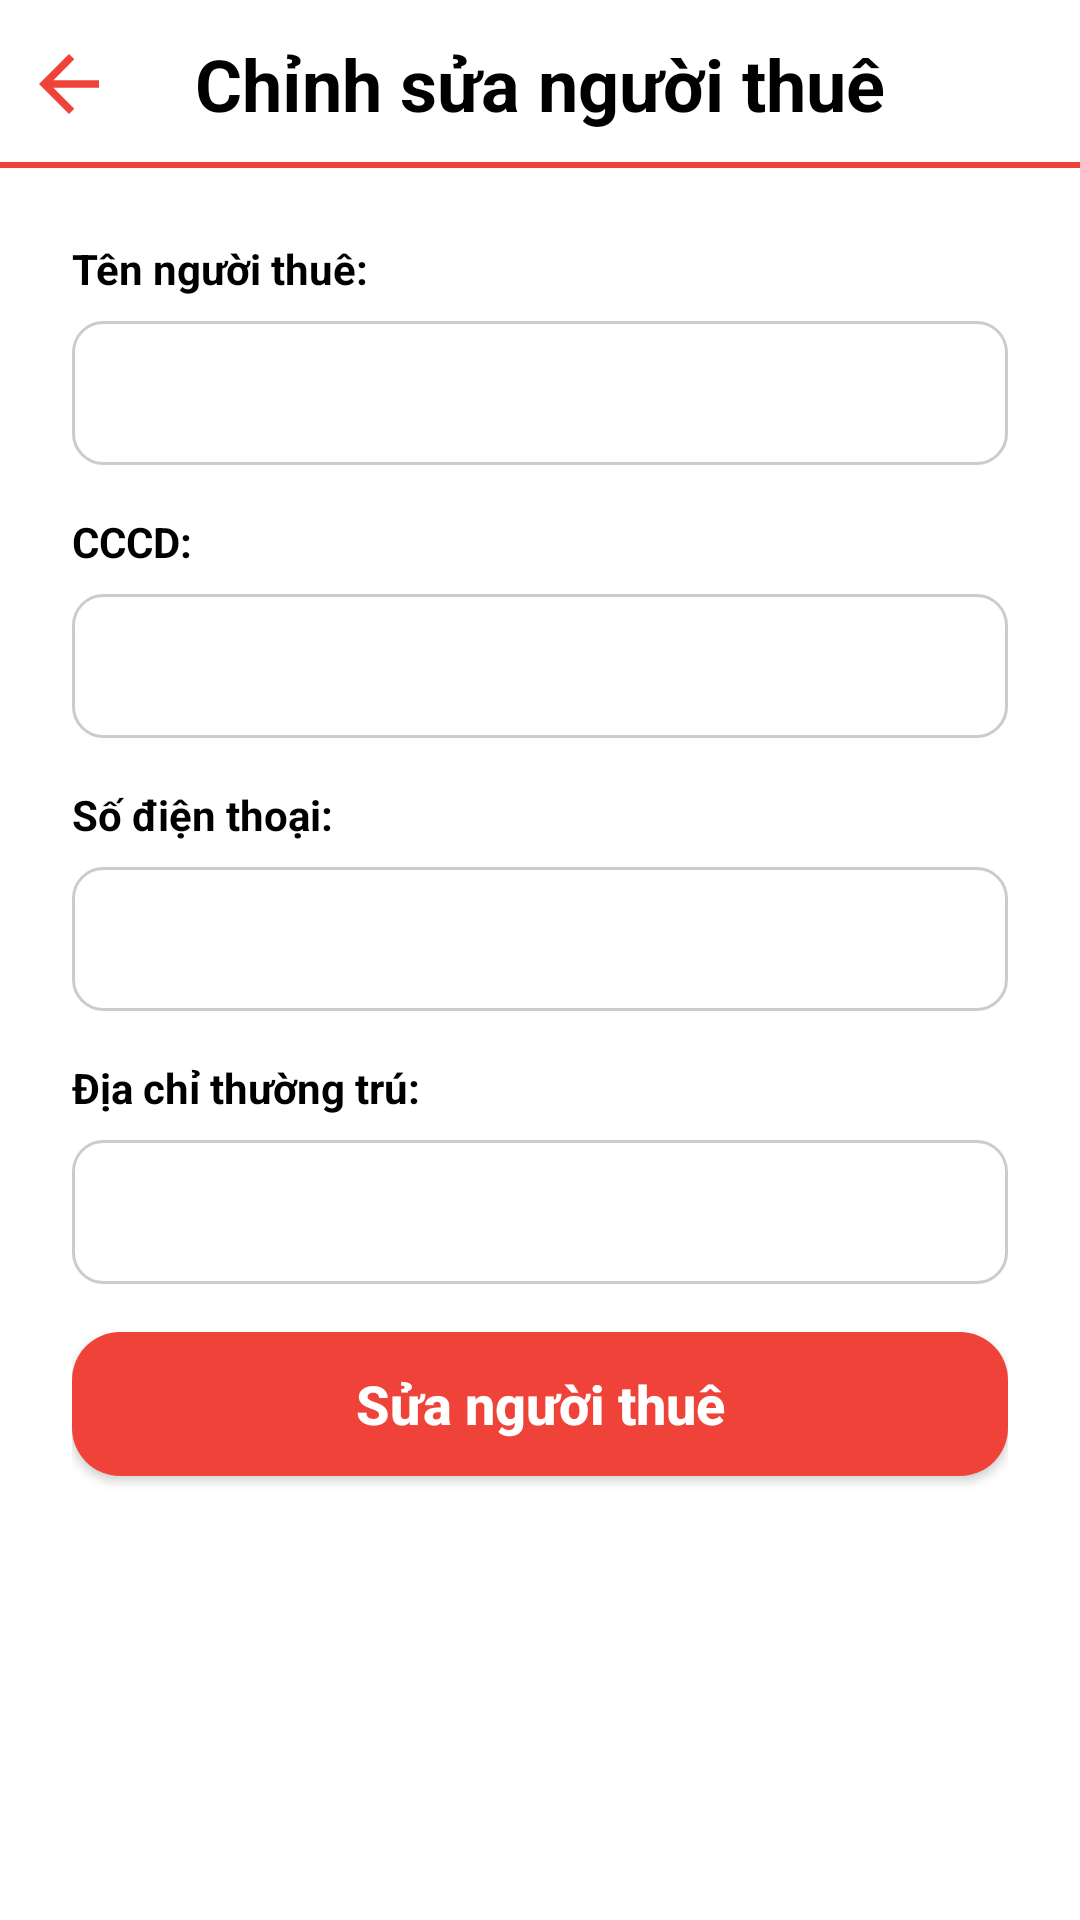

Icons on this 1080px×1920px Android screen, each with the point to tap as point (x, y):
back: point (69, 84)
